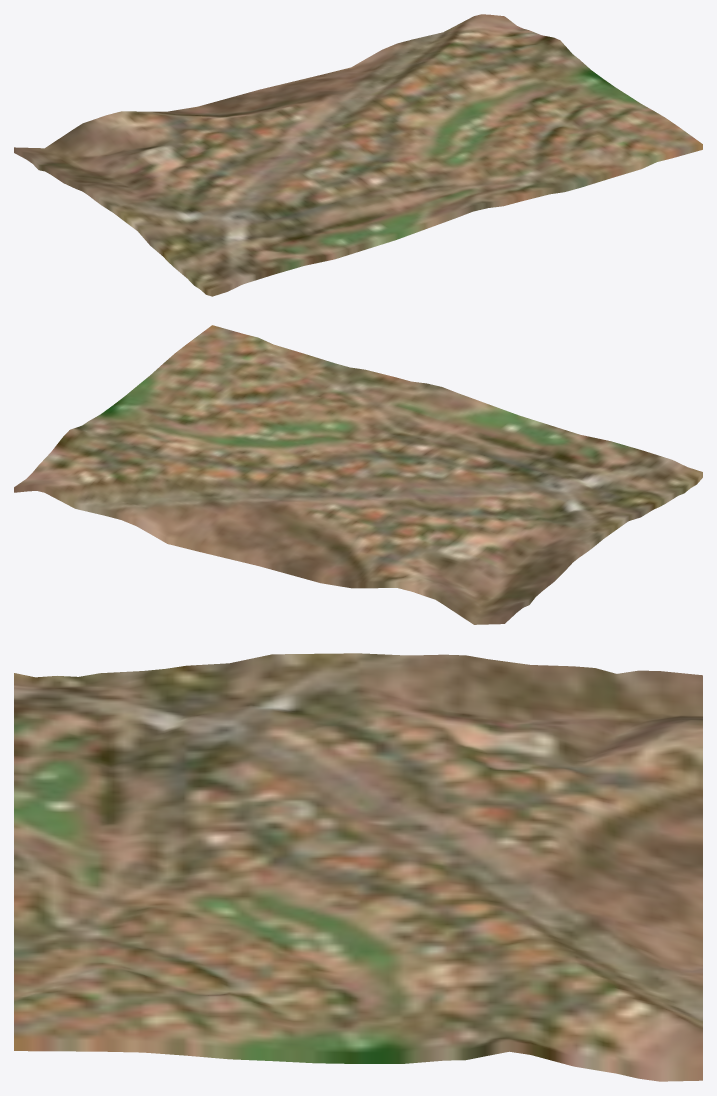
The model's file is terrain_r6_c1_lod2.glb.
3 renders of one model, top to bottom at view 1: azimuth 30°, elevation 25°; view 2: azimuth 150°, elevation 25°; view 3: azimuth 270°, elevation 25°, orthographic. The views are drawn at different scales.
Visible parts, largest first — view 1: terrain_r6_c1_lod2; view 2: terrain_r6_c1_lod2; view 3: terrain_r6_c1_lod2.
Part boxes in pixels (left/top/right/bottom): terrain_r6_c1_lod2: left=14, top=14, right=702, bottom=296; terrain_r6_c1_lod2: left=14, top=325, right=702, bottom=624; terrain_r6_c1_lod2: left=14, top=653, right=702, bottom=1081.
Size of the model in its own units: 1125 by 92.91 by 787.
1 material, 1 textured.
